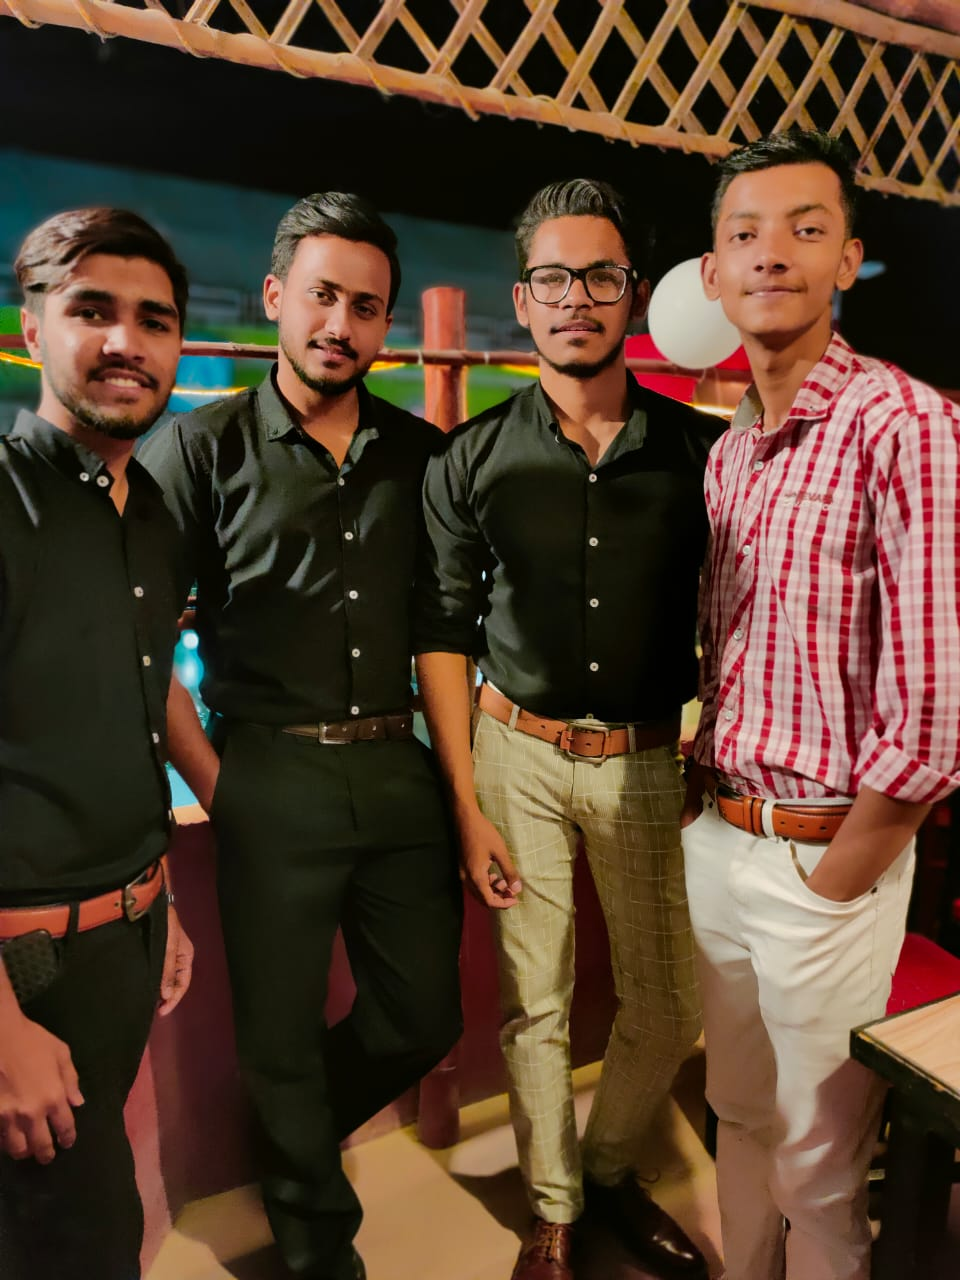NoMask: (52, 284, 179, 435), (717, 198, 842, 335), (285, 271, 389, 396), (528, 255, 626, 378)
